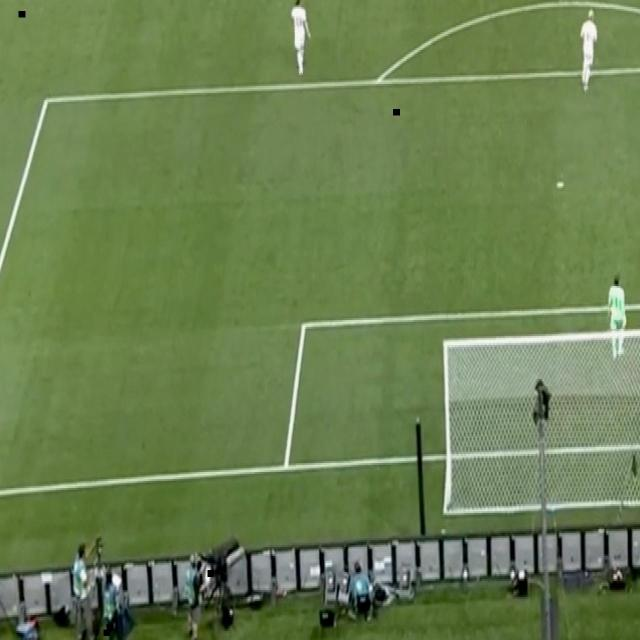player-white: (606, 272, 628, 362), (288, 0, 311, 78), (579, 8, 599, 95)
